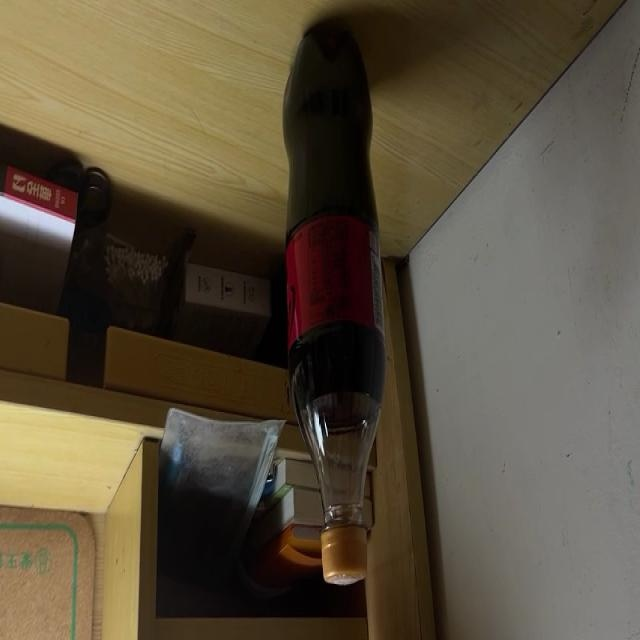Coca-Cola: (280, 26, 388, 586)
